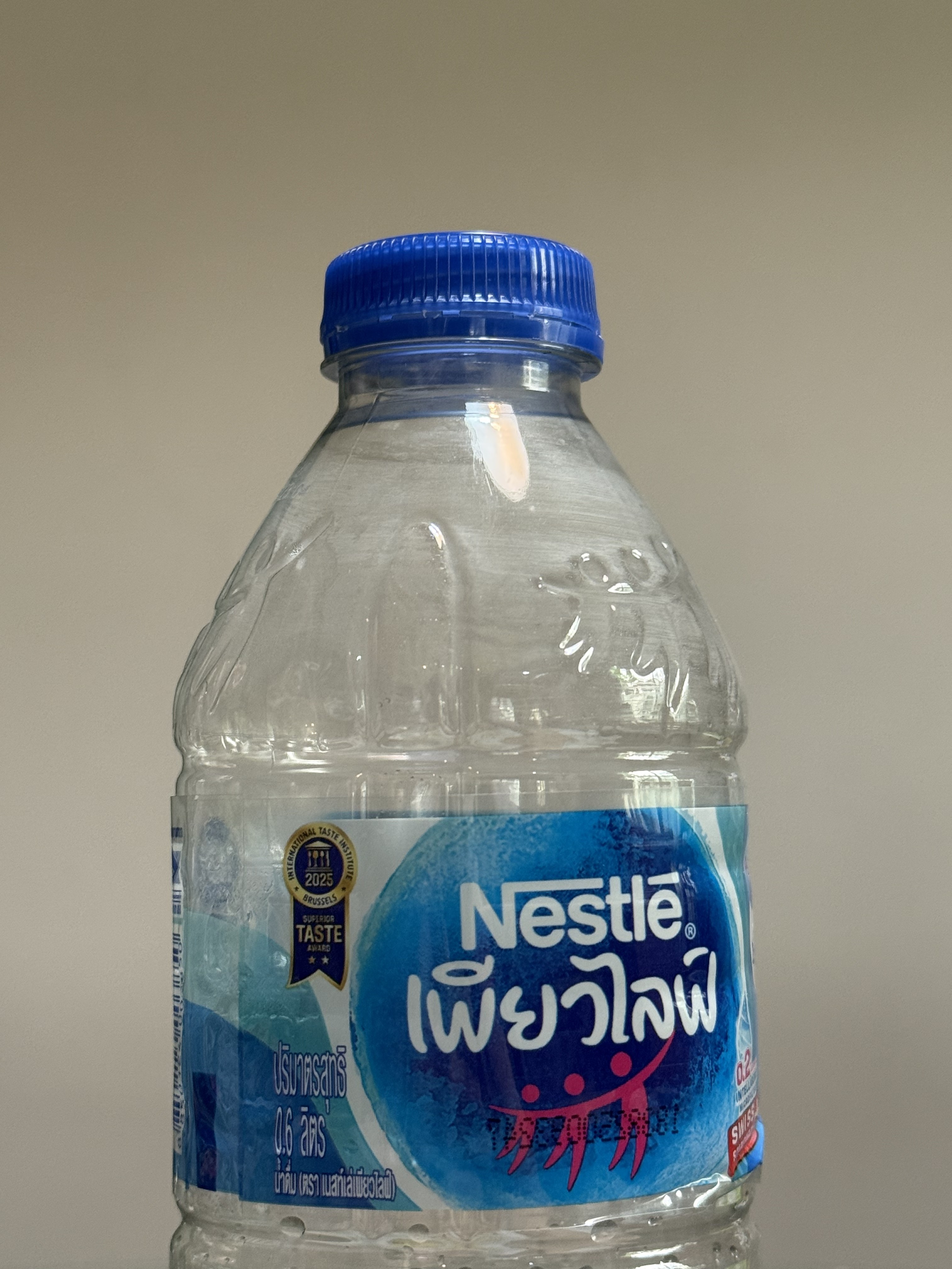closed_cap: (315, 226, 607, 377)
